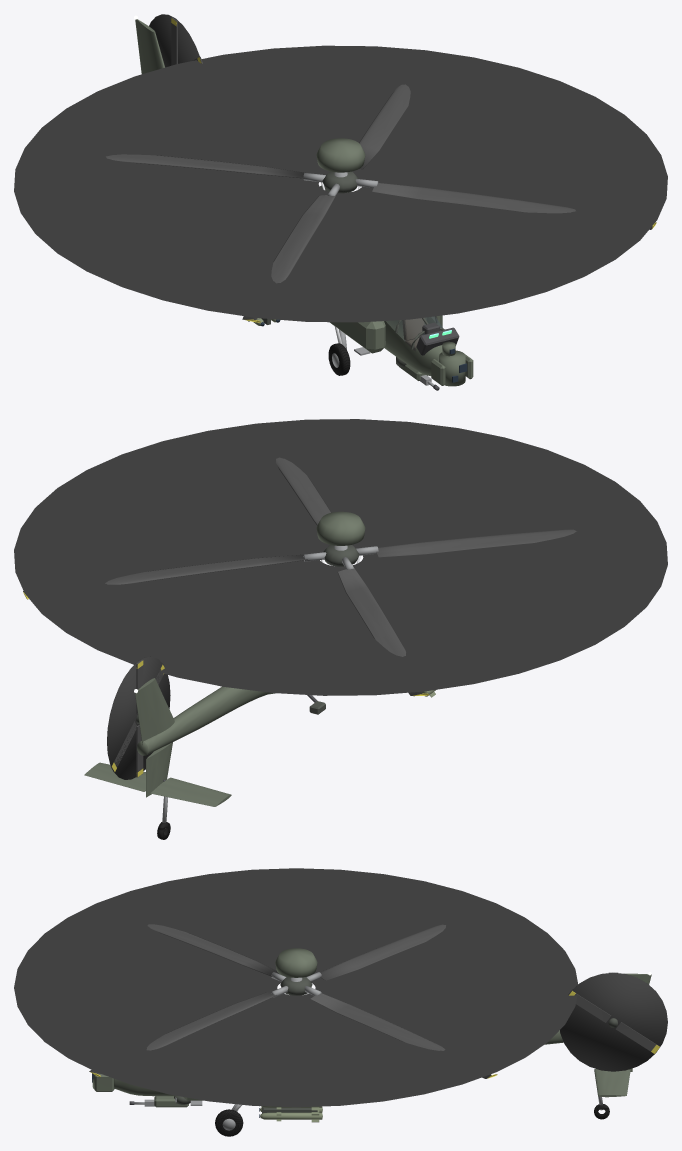
3 renders of one model, top to bottom at view 1: azimuth 30°, elevation 25°; view 2: azimuth 150°, elevation 25°; view 3: azimuth 270°, elevation 25°, orthographic. The views are drawn at different scales.
Parts seen in each view (by area): view 1: rotor_disc, rotor_main_geo, ah64_body, tads_geo, tail_disc; view 2: rotor_disc, ah64_body, rotor_main_geo, tail_disc, rotor_tail_geo; view 3: rotor_disc, tail_disc, rotor_main_geo, ah64_body, rotor_tail_geo, atgm_4, gun_geo.
Boxes of the visible parts, bbox=[...] form: rotor_disc: bbox=[14, 45, 667, 322]; rotor_main_geo: bbox=[106, 84, 656, 322]; ah64_body: bbox=[134, 15, 459, 375]; tads_geo: bbox=[431, 341, 473, 386]; tail_disc: bbox=[149, 14, 201, 67]; rotor_disc: bbox=[14, 419, 667, 695]; ah64_body: bbox=[84, 511, 365, 839]; rotor_main_geo: bbox=[23, 457, 576, 696]; tail_disc: bbox=[107, 656, 170, 779]; rotor_tail_geo: bbox=[110, 660, 164, 777]; rotor_disc: bbox=[14, 868, 578, 1107]; tail_disc: bbox=[560, 972, 667, 1071]; rotor_main_geo: bbox=[89, 924, 497, 1078]; ah64_body: bbox=[114, 948, 651, 1136]; rotor_tail_geo: bbox=[568, 972, 659, 1053]; atgm_4: bbox=[259, 1110, 322, 1122]; gun_geo: bbox=[129, 1096, 190, 1107].
Bounding box in the file's own units: 14.7 × 4.79 × 17.02.
Materials: 23 (2 with a texture image).
